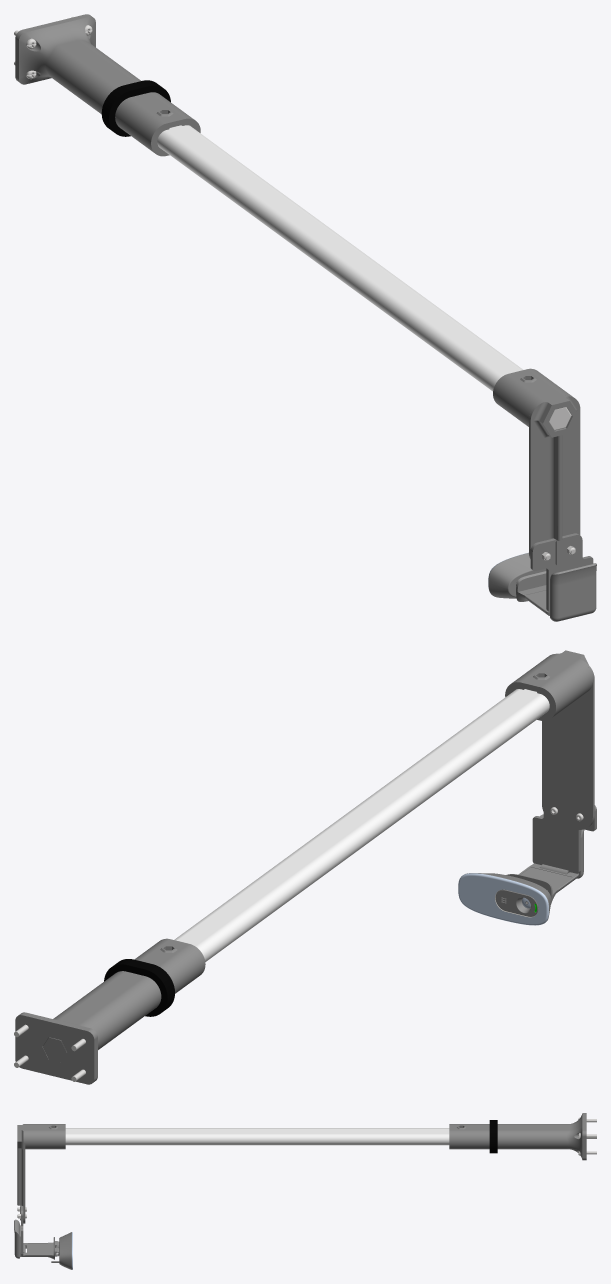
Rendered from ensambleSoporteC270Webcam.dae.
3 renders of one model, top to bottom at view 1: azimuth 30°, elevation 25°; view 2: azimuth 150°, elevation 25°; view 3: azimuth 270°, elevation 25°, orthographic. The views are drawn at different scales.
Visible parts, largest first — view 1: ensambleSoporteC270Webcam; view 2: ensambleSoporteC270Webcam; view 3: ensambleSoporteC270Webcam.
Part boxes in pixels (x1,y1,x2,y2): ensambleSoporteC270Webcam: [14, 14, 596, 621]; ensambleSoporteC270Webcam: [14, 650, 596, 1084]; ensambleSoporteC270Webcam: [14, 1113, 596, 1269].
Size of the model in its own units: 83 by 723 by 184.
